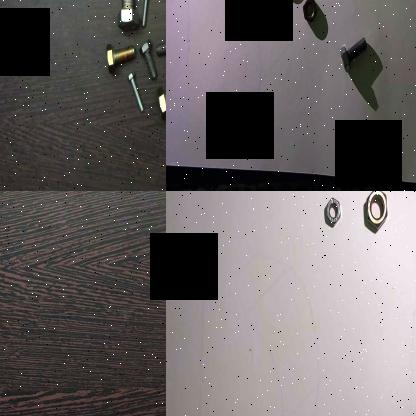Bolts: (104, 37, 136, 76), (339, 34, 367, 76), (124, 73, 146, 113), (115, 0, 139, 34), (139, 38, 156, 84), (157, 74, 166, 123), (140, 0, 152, 27), (154, 34, 166, 60)
NUTS: (363, 191, 390, 234), (320, 191, 343, 233), (302, 0, 316, 24)
